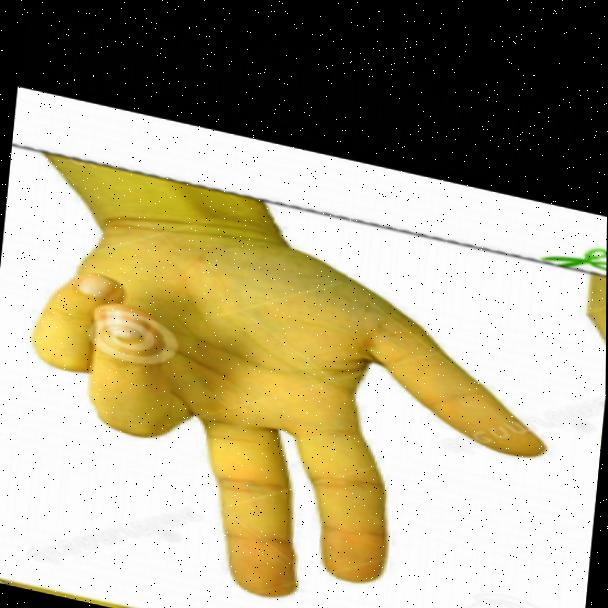three: (0, 185, 570, 608)
